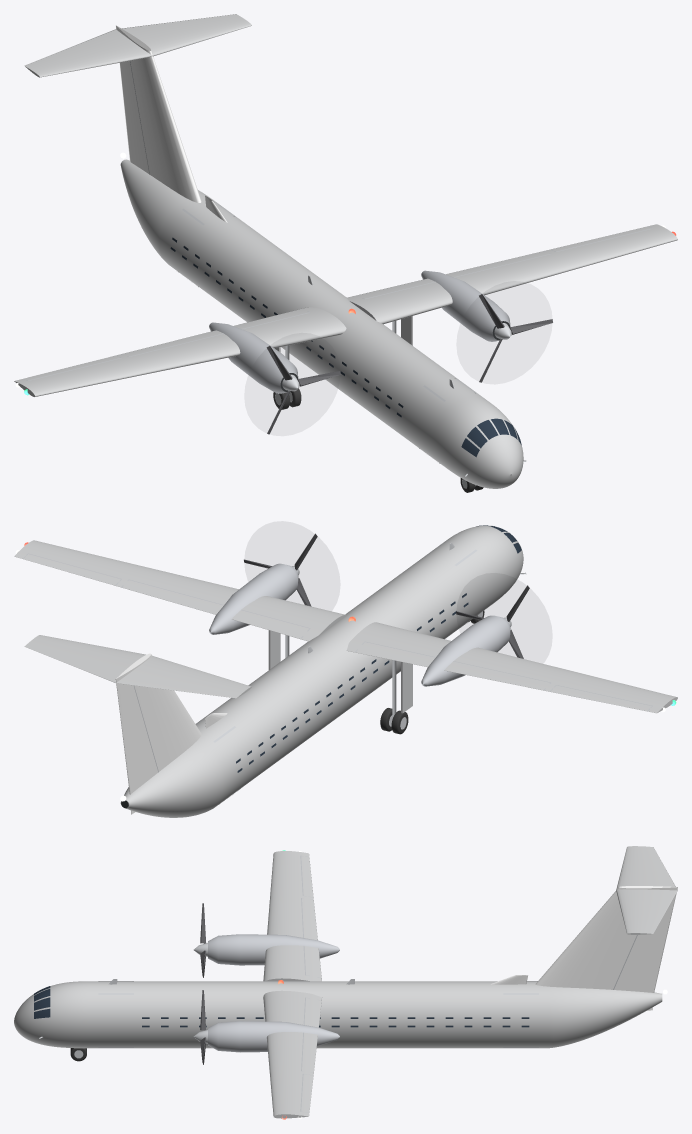
3 renders of one model, top to bottom at view 1: azimuth 30°, elevation 25°; view 2: azimuth 150°, elevation 25°; view 3: azimuth 270°, elevation 25°, orthographic. The views are drawn at different scales.
Visible parts, largest first — view 1: airframe, gear; view 2: airframe, gear, prop (×2); view 3: airframe.
Part boxes in pixels (x1=…): airframe: x1=14, y1=14, x2=677, y2=488; gear: x1=273, y1=316, x2=483, y2=492; airframe: x1=14, y1=525, x2=677, y2=817; gear: x1=268, y1=610, x2=484, y2=734; prop (×2): x1=244, y1=533, x2=529, y2=658; airframe: x1=14, y1=846, x2=677, y2=1119.
Bounding box in the file's own units: 17.62 × 5.28 × 18.54.
